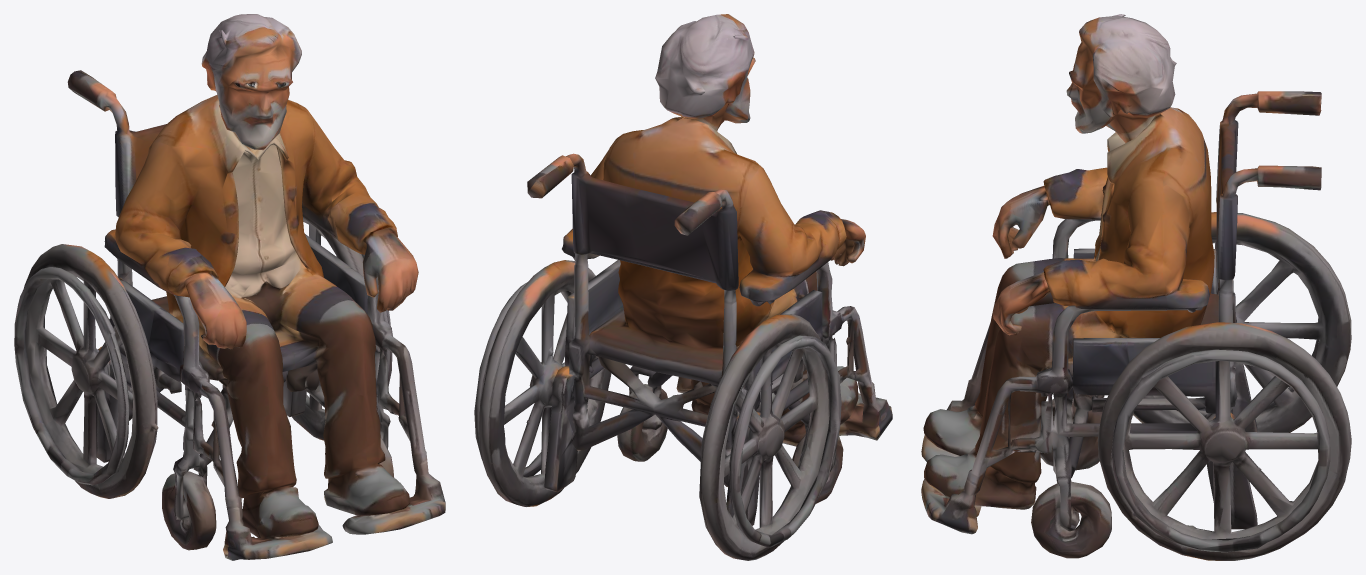
Rendered from silla.glb.
3 renders of one model, left to right at view 1: azimuth 30°, elevation 25°; view 2: azimuth 150°, elevation 25°; view 3: azimuth 270°, elevation 25°, orthographic. The views are drawn at different scales.
Parts seen in each view (by area): view 1: tripo_node_c62c0b79-e78a-42ba-b93d-7e1c74f88bfc; view 2: tripo_node_c62c0b79-e78a-42ba-b93d-7e1c74f88bfc; view 3: tripo_node_c62c0b79-e78a-42ba-b93d-7e1c74f88bfc.
Part boxes in pixels (box(x1,y1,x2,y2)): tripo_node_c62c0b79-e78a-42ba-b93d-7e1c74f88bfc: box(14, 14, 445, 560); tripo_node_c62c0b79-e78a-42ba-b93d-7e1c74f88bfc: box(474, 14, 892, 560); tripo_node_c62c0b79-e78a-42ba-b93d-7e1c74f88bfc: box(921, 14, 1351, 560).
Bounding box in the file's own units: 0.5831 × 0.9987 × 0.7955.
1 material, 1 textured.
